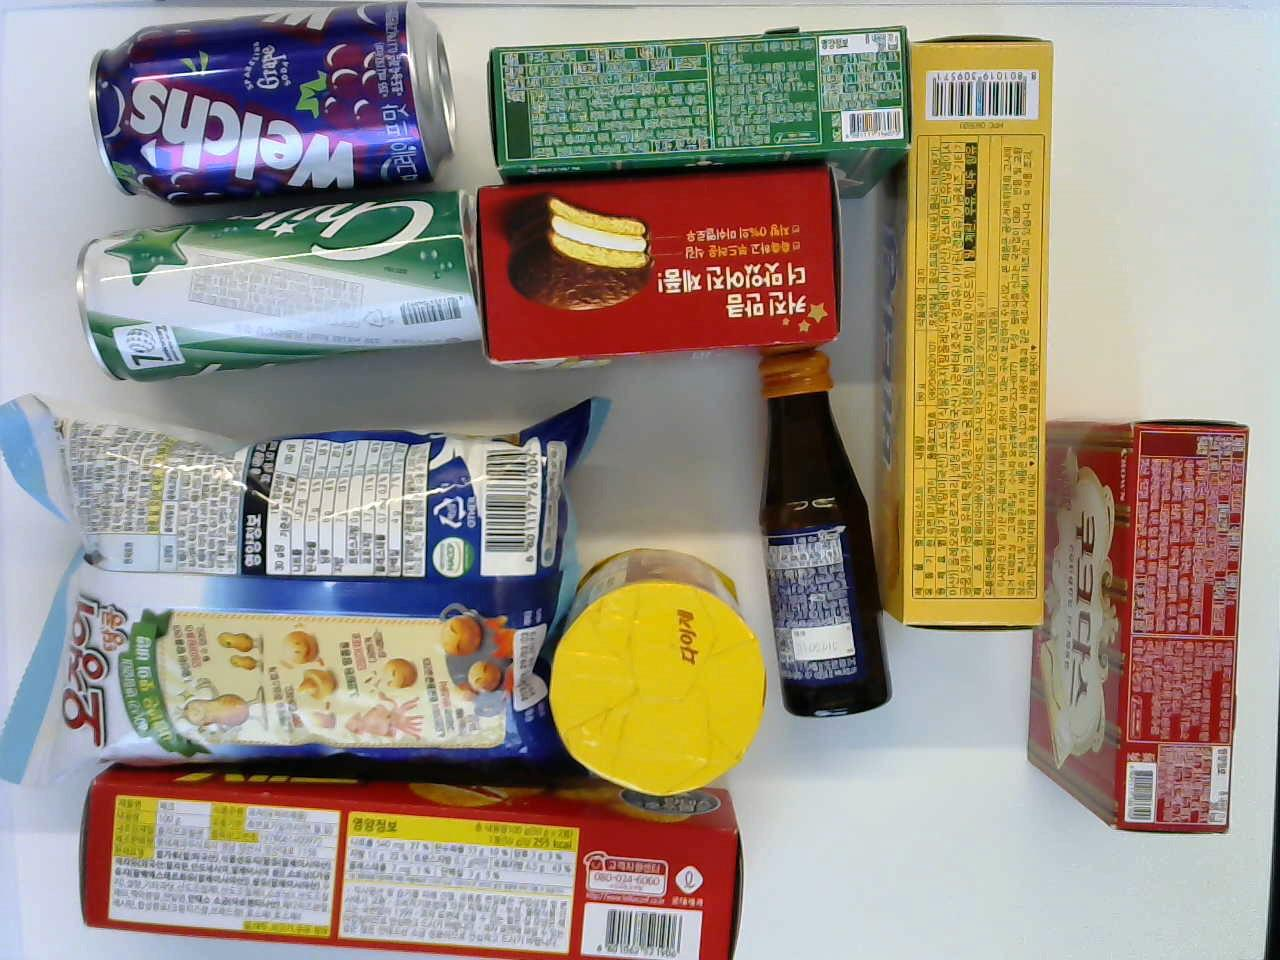buttering: (879, 36, 1063, 625)
chocopie: (484, 169, 840, 366)
cidar: (78, 193, 475, 385)
couque_coffee: (492, 23, 909, 168)
couque_white: (1022, 423, 1255, 838)
diget_ori: (545, 546, 769, 791)
squid_peanut: (0, 403, 602, 768)
vita500: (757, 351, 892, 716)
welchs: (88, 6, 457, 183)
zec: (81, 760, 746, 956)
